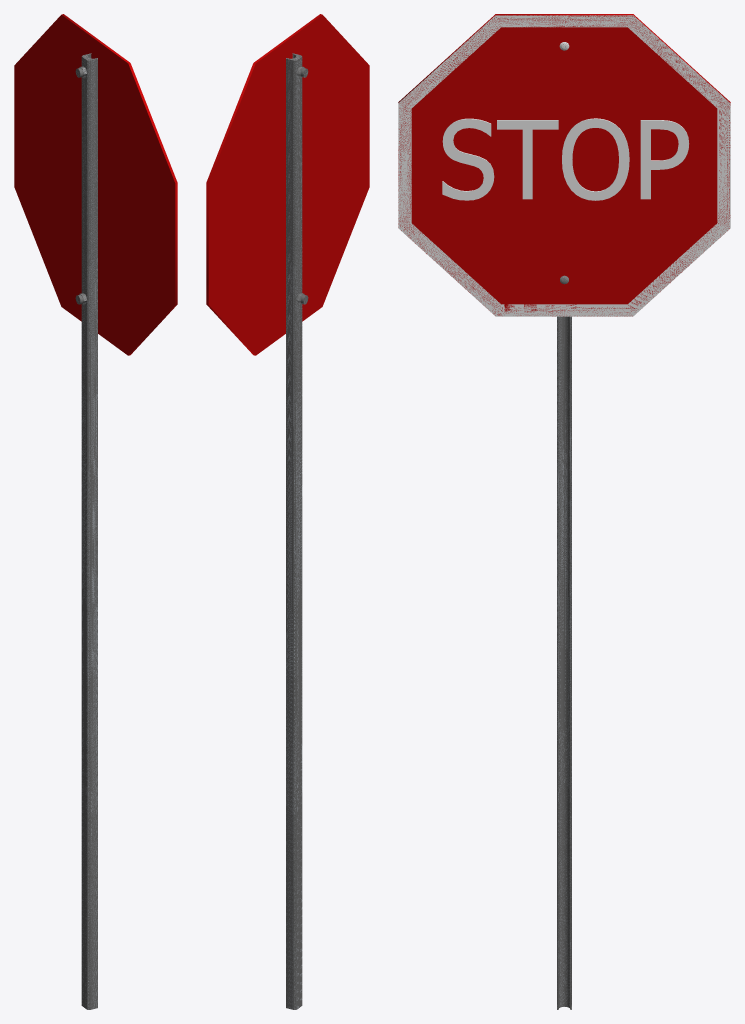
3 renders of one model, left to right at view 1: azimuth 30°, elevation 25°; view 2: azimuth 150°, elevation 25°; view 3: azimuth 270°, elevation 25°, orthographic. The views are drawn at different scales.
Parts seen in each view (by area): view 1: SketchUp (×2); view 2: SketchUp (×2); view 3: SketchUp (×3), STOP (×4).
Part boxes in pixels (x1,y1,x2,y2): SketchUp (×2): [14, 14, 177, 1009]; SketchUp (×2): [206, 14, 369, 1009]; SketchUp (×3): [398, 15, 730, 1009]; STOP (×4): [442, 118, 689, 200].
Size of the model in its own units: 1.58 by 22.17 by 73.28.
